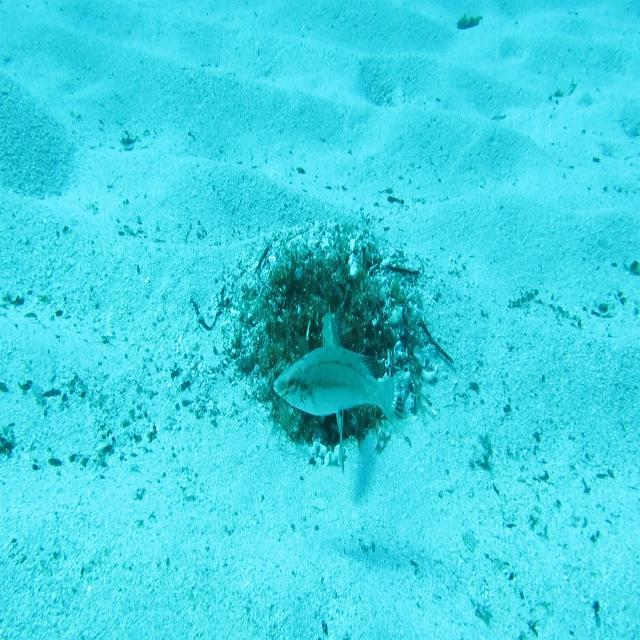FAN: (320, 304, 349, 476)
core_nest: (299, 273, 343, 305)
female: (271, 342, 413, 440)
nest: (217, 214, 444, 482)
vegetation: (457, 12, 482, 30)
